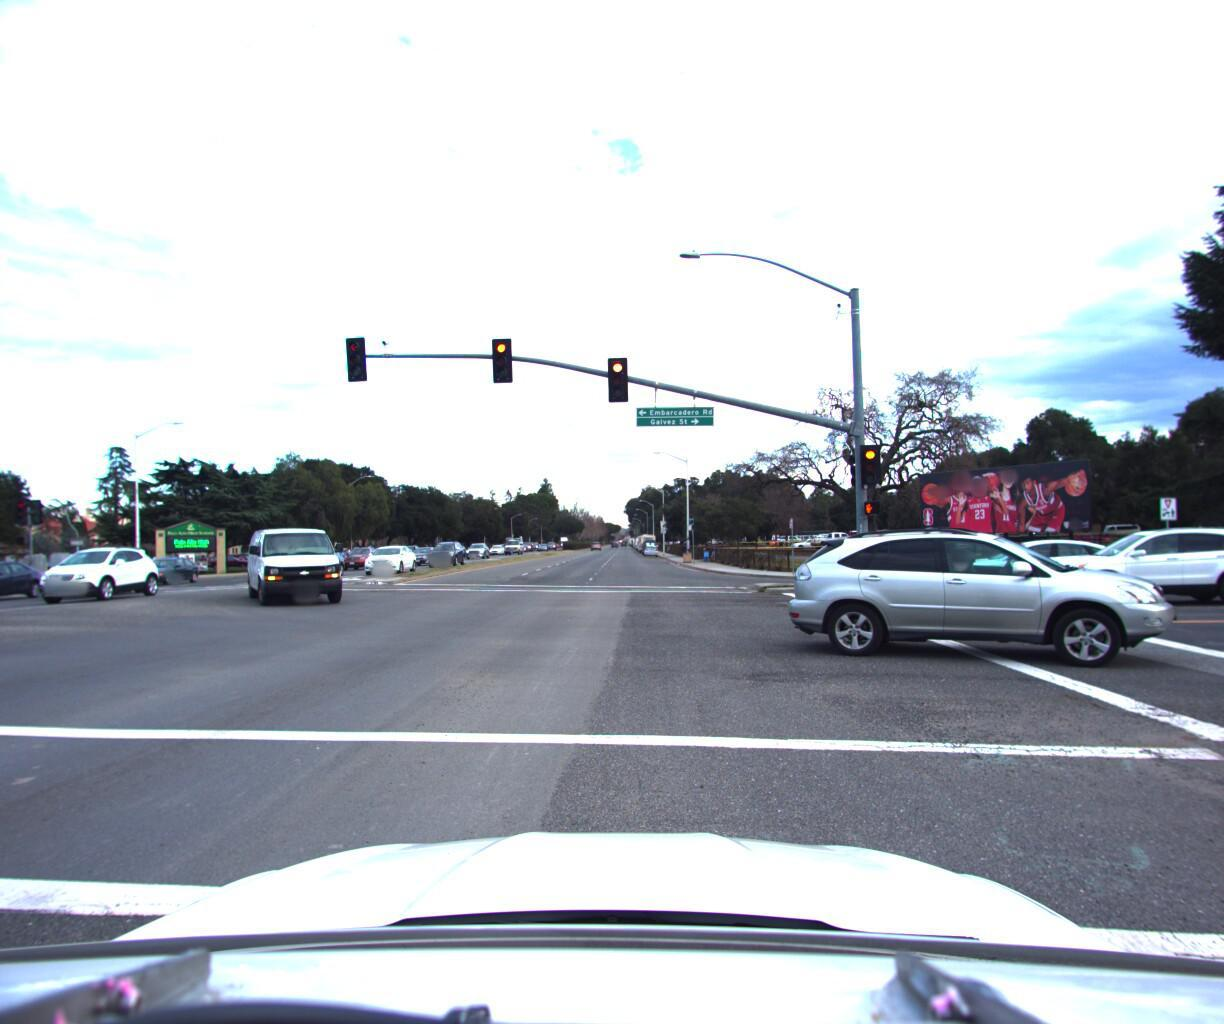car: (773, 507, 1191, 674), (1027, 522, 1224, 601), (925, 531, 1146, 594), (242, 521, 350, 606), (25, 541, 166, 603), (0, 558, 56, 609), (132, 555, 204, 586), (358, 540, 419, 573), (425, 537, 465, 565), (336, 542, 380, 567), (403, 544, 442, 565), (465, 536, 491, 555)
